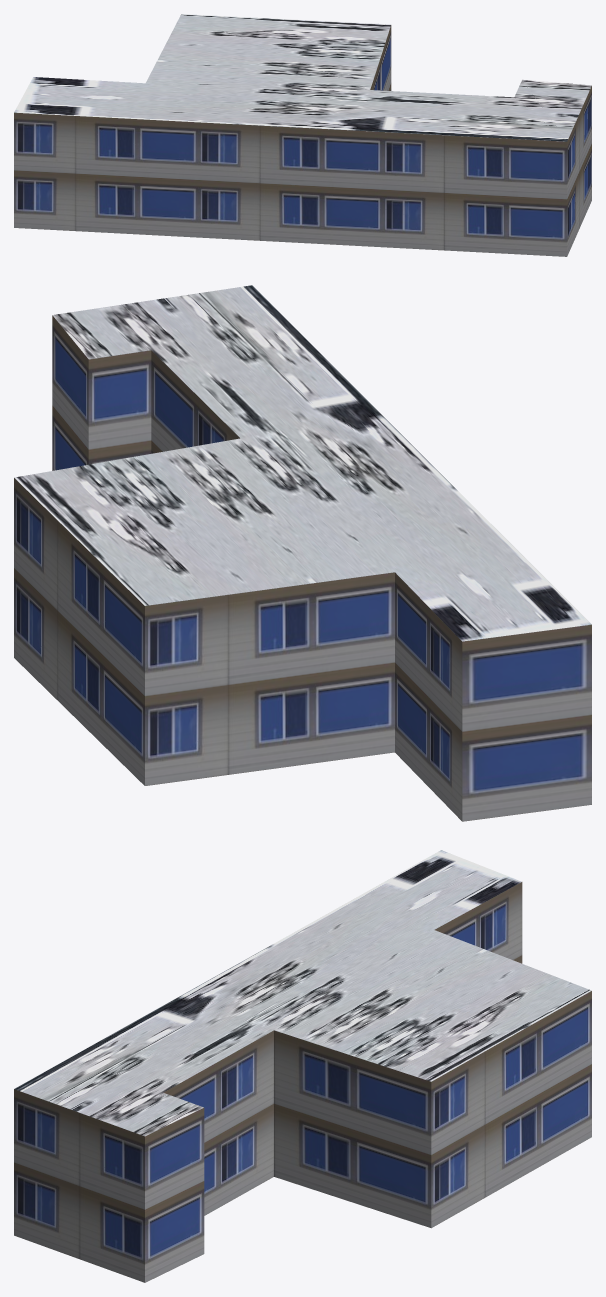
Rendered from ResTex__259.fbx.
3 views of the same model, one above another, from view 1: azimuth 30°, elevation 25°; view 2: azimuth 150°, elevation 25°; view 3: azimuth 270°, elevation 25° (orthographic). The views are drawn at different scales.
Parts seen in each view (by area): view 1: CityEngineMaterial_23_m, CityEngineMaterial_4_m; view 2: CityEngineMaterial_23_m, CityEngineMaterial_4_m; view 3: CityEngineMaterial_23_m, CityEngineMaterial_4_m.
Part boxes in pixels (x1,y1,x2,y2): CityEngineMaterial_23_m: (14, 25, 591, 256); CityEngineMaterial_4_m: (14, 14, 591, 141); CityEngineMaterial_23_m: (14, 315, 591, 821); CityEngineMaterial_4_m: (14, 285, 591, 641); CityEngineMaterial_23_m: (14, 882, 591, 1282); CityEngineMaterial_4_m: (14, 850, 591, 1136).
Bounding box in the file's own units: 25.15 × 6 × 21.45.
Materials: 2 (2 with a texture image).
